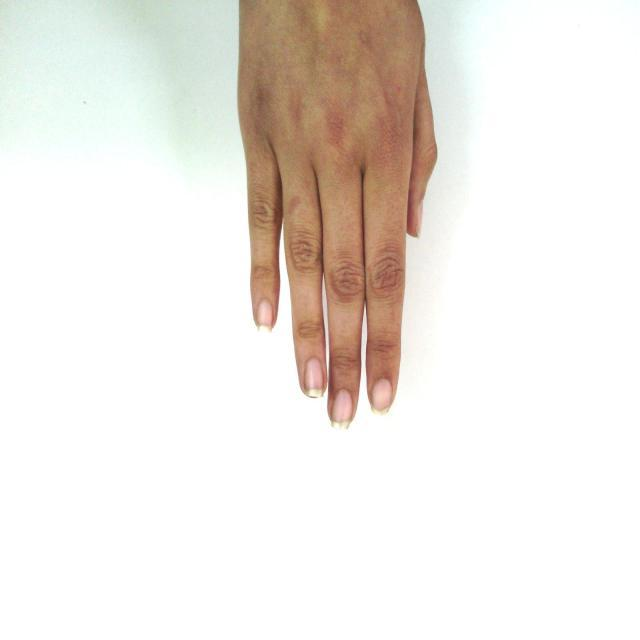Fingernail: (331, 389, 353, 429), (305, 359, 323, 396), (372, 380, 391, 413), (257, 301, 273, 334), (411, 202, 423, 236)
